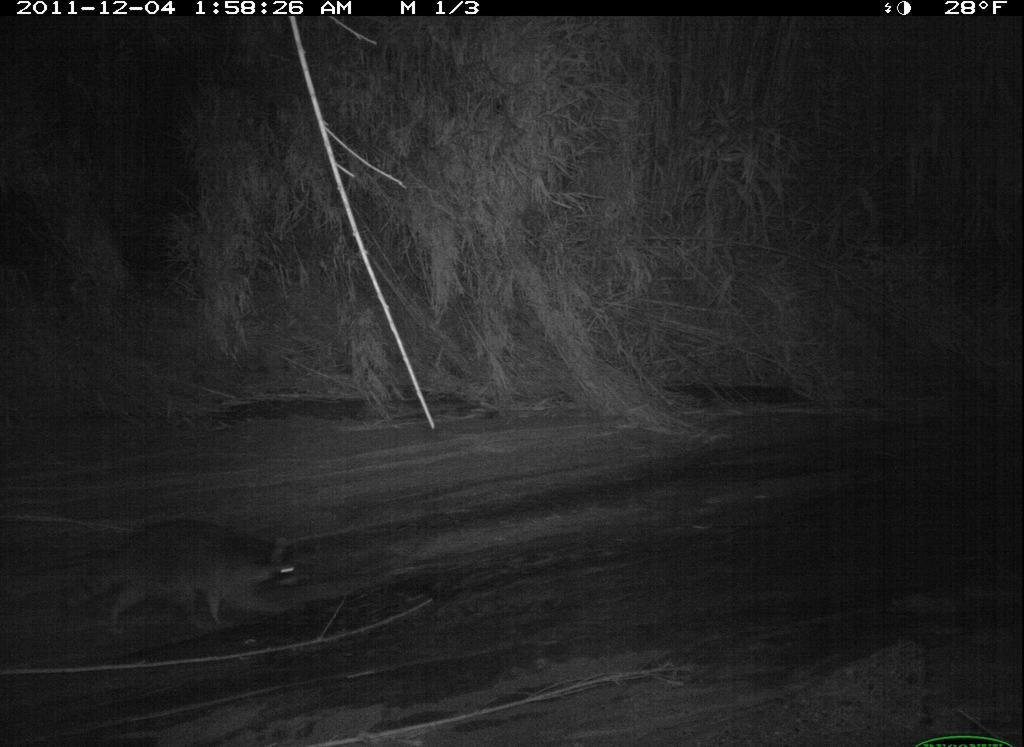raccoon: (54, 515, 323, 657)
